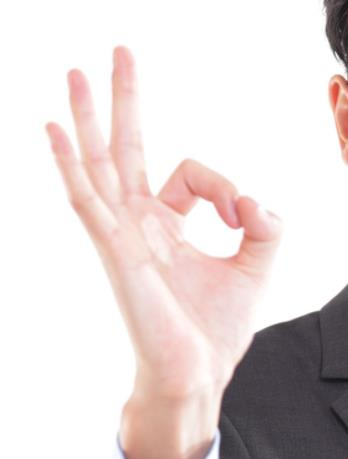left: (46, 43, 276, 392)
